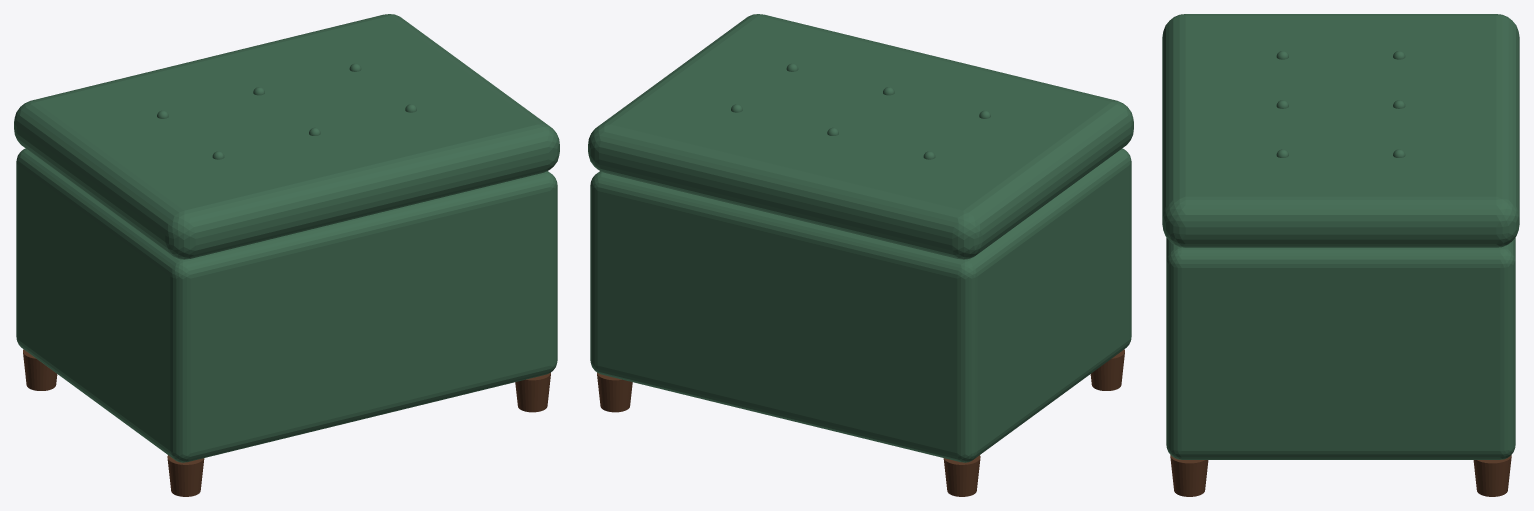
File: 009_storage_ottoman.glb
3 views of the same model, side by side, from view 1: azimuth 30°, elevation 25°; view 2: azimuth 150°, elevation 25°; view 3: azimuth 270°, elevation 25° (orthographic). The views are drawn at different scales.
Visible parts, largest first — view 1: 004_upholstered_box, 006_padded_lid, 001_bun_foot, 003_bun_foot, 000_bun_foot; view 2: 004_upholstered_box, 006_padded_lid, 000_bun_foot, 002_bun_foot, 001_bun_foot; view 3: 006_padded_lid, 004_upholstered_box, 002_bun_foot, 003_bun_foot, 007_tufting_buttons_6.
Part boxes in pixels (x1=…): 004_upholstered_box: x1=16, y1=148, x2=557, y2=462; 006_padded_lid: x1=14, y1=14, x2=559, y2=259; 001_bun_foot: x1=167, y1=455, x2=204, y2=496; 003_bun_foot: x1=515, y1=373, x2=550, y2=412; 000_bun_foot: x1=23, y1=349, x2=57, y2=390; 004_upholstered_box: x1=590, y1=148, x2=1131, y2=462; 006_padded_lid: x1=588, y1=14, x2=1133, y2=259; 000_bun_foot: x1=943, y1=455, x2=980, y2=496; 002_bun_foot: x1=597, y1=373, x2=632, y2=412; 001_bun_foot: x1=1090, y1=349, x2=1124, y2=390; 006_padded_lid: x1=1162, y1=14, x2=1519, y2=247; 004_upholstered_box: x1=1166, y1=237, x2=1515, y2=459; 002_bun_foot: x1=1473, y1=455, x2=1511, y2=496; 003_bun_foot: x1=1170, y1=455, x2=1208, y2=496; 007_tufting_buttons_6: x1=1276, y1=51, x2=1405, y2=157.
Bounding box in the file's own units: 0.61 × 0.428 × 0.46.
